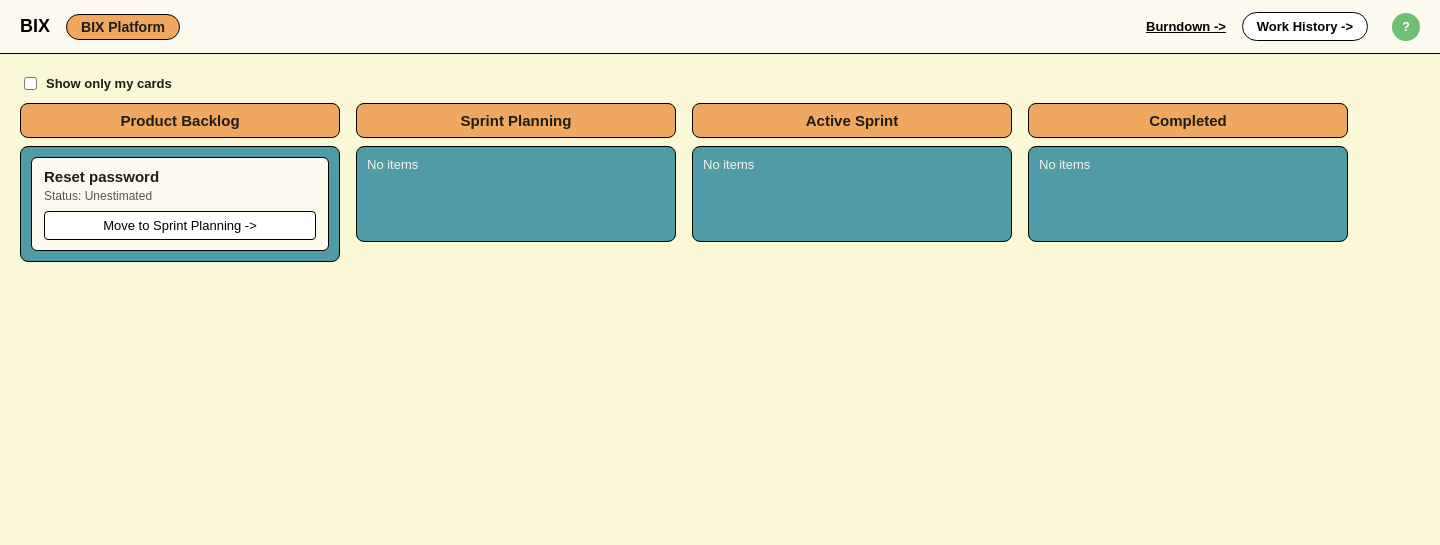
Board page › moves the card to Sprint Planning after a successful move, using the server-confirmed stage
The image size is (1440, 545).
expect the heading "Reset password" is shown: met, box [44,168,159,185]
Click the button "Move to Sprint Planning ->" at (180, 226), box [44,211,316,240]
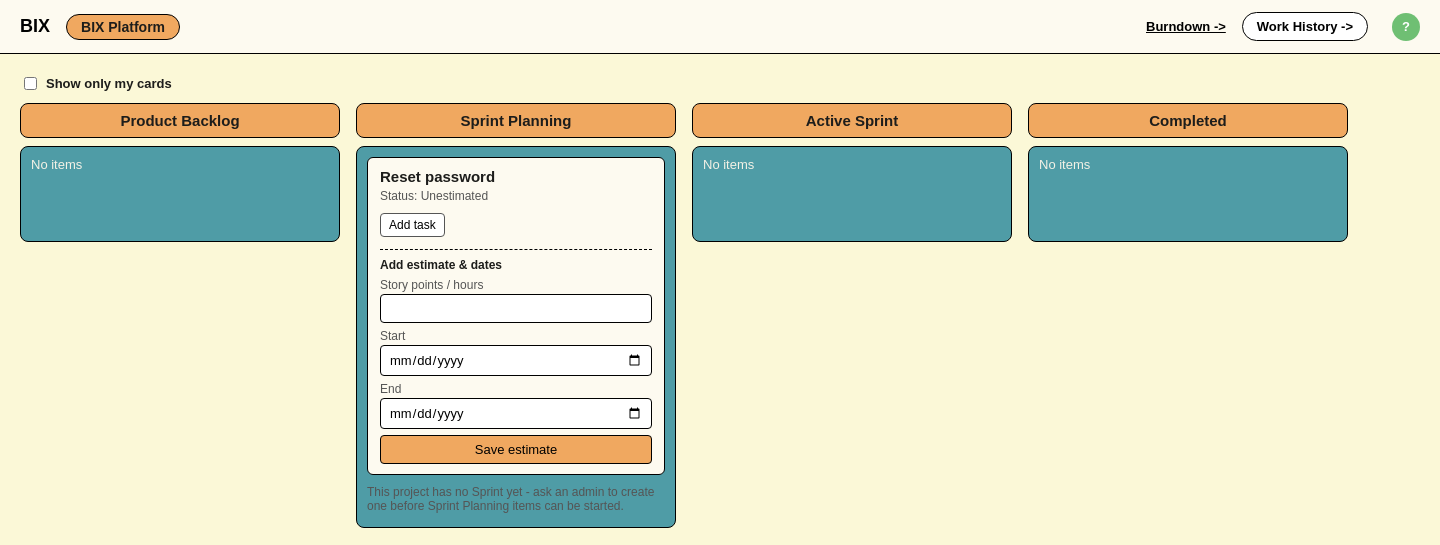
expect the element "Product Backlog" does not show "Reset password": met, box [20,103,340,242]
expect the element "Sprint Planning" shows "Reset password": met, box [380,168,495,185]
